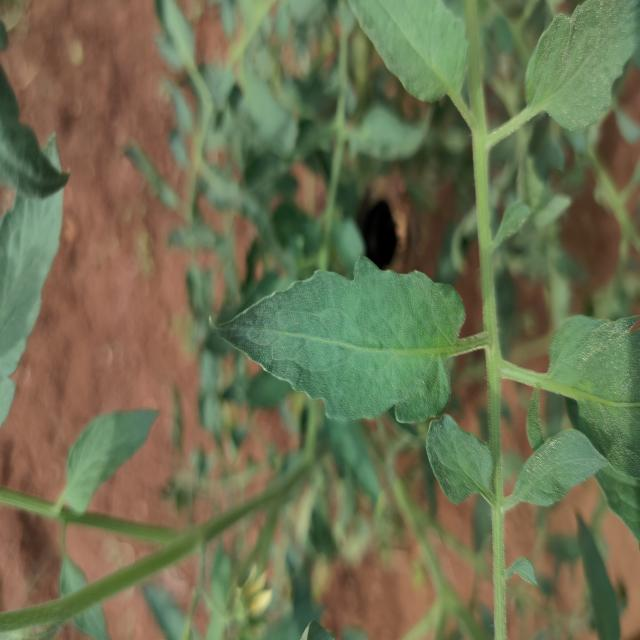tomato_healthy: (210, 257, 460, 431)
